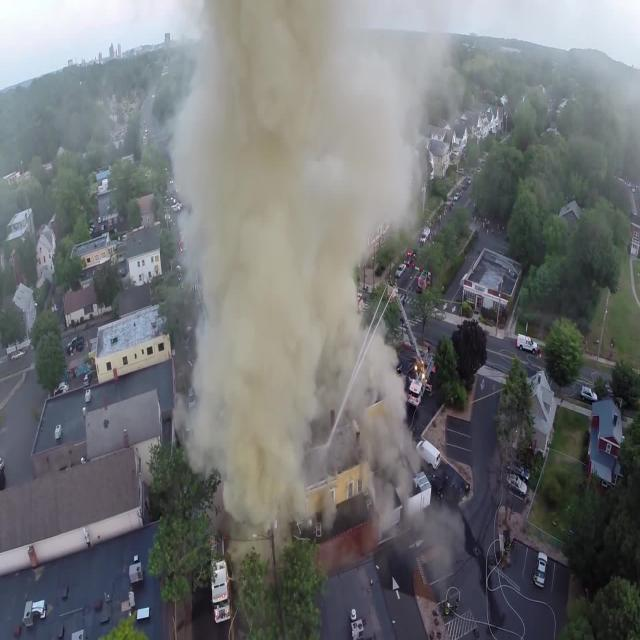Smoke: (212, 52, 336, 428)
